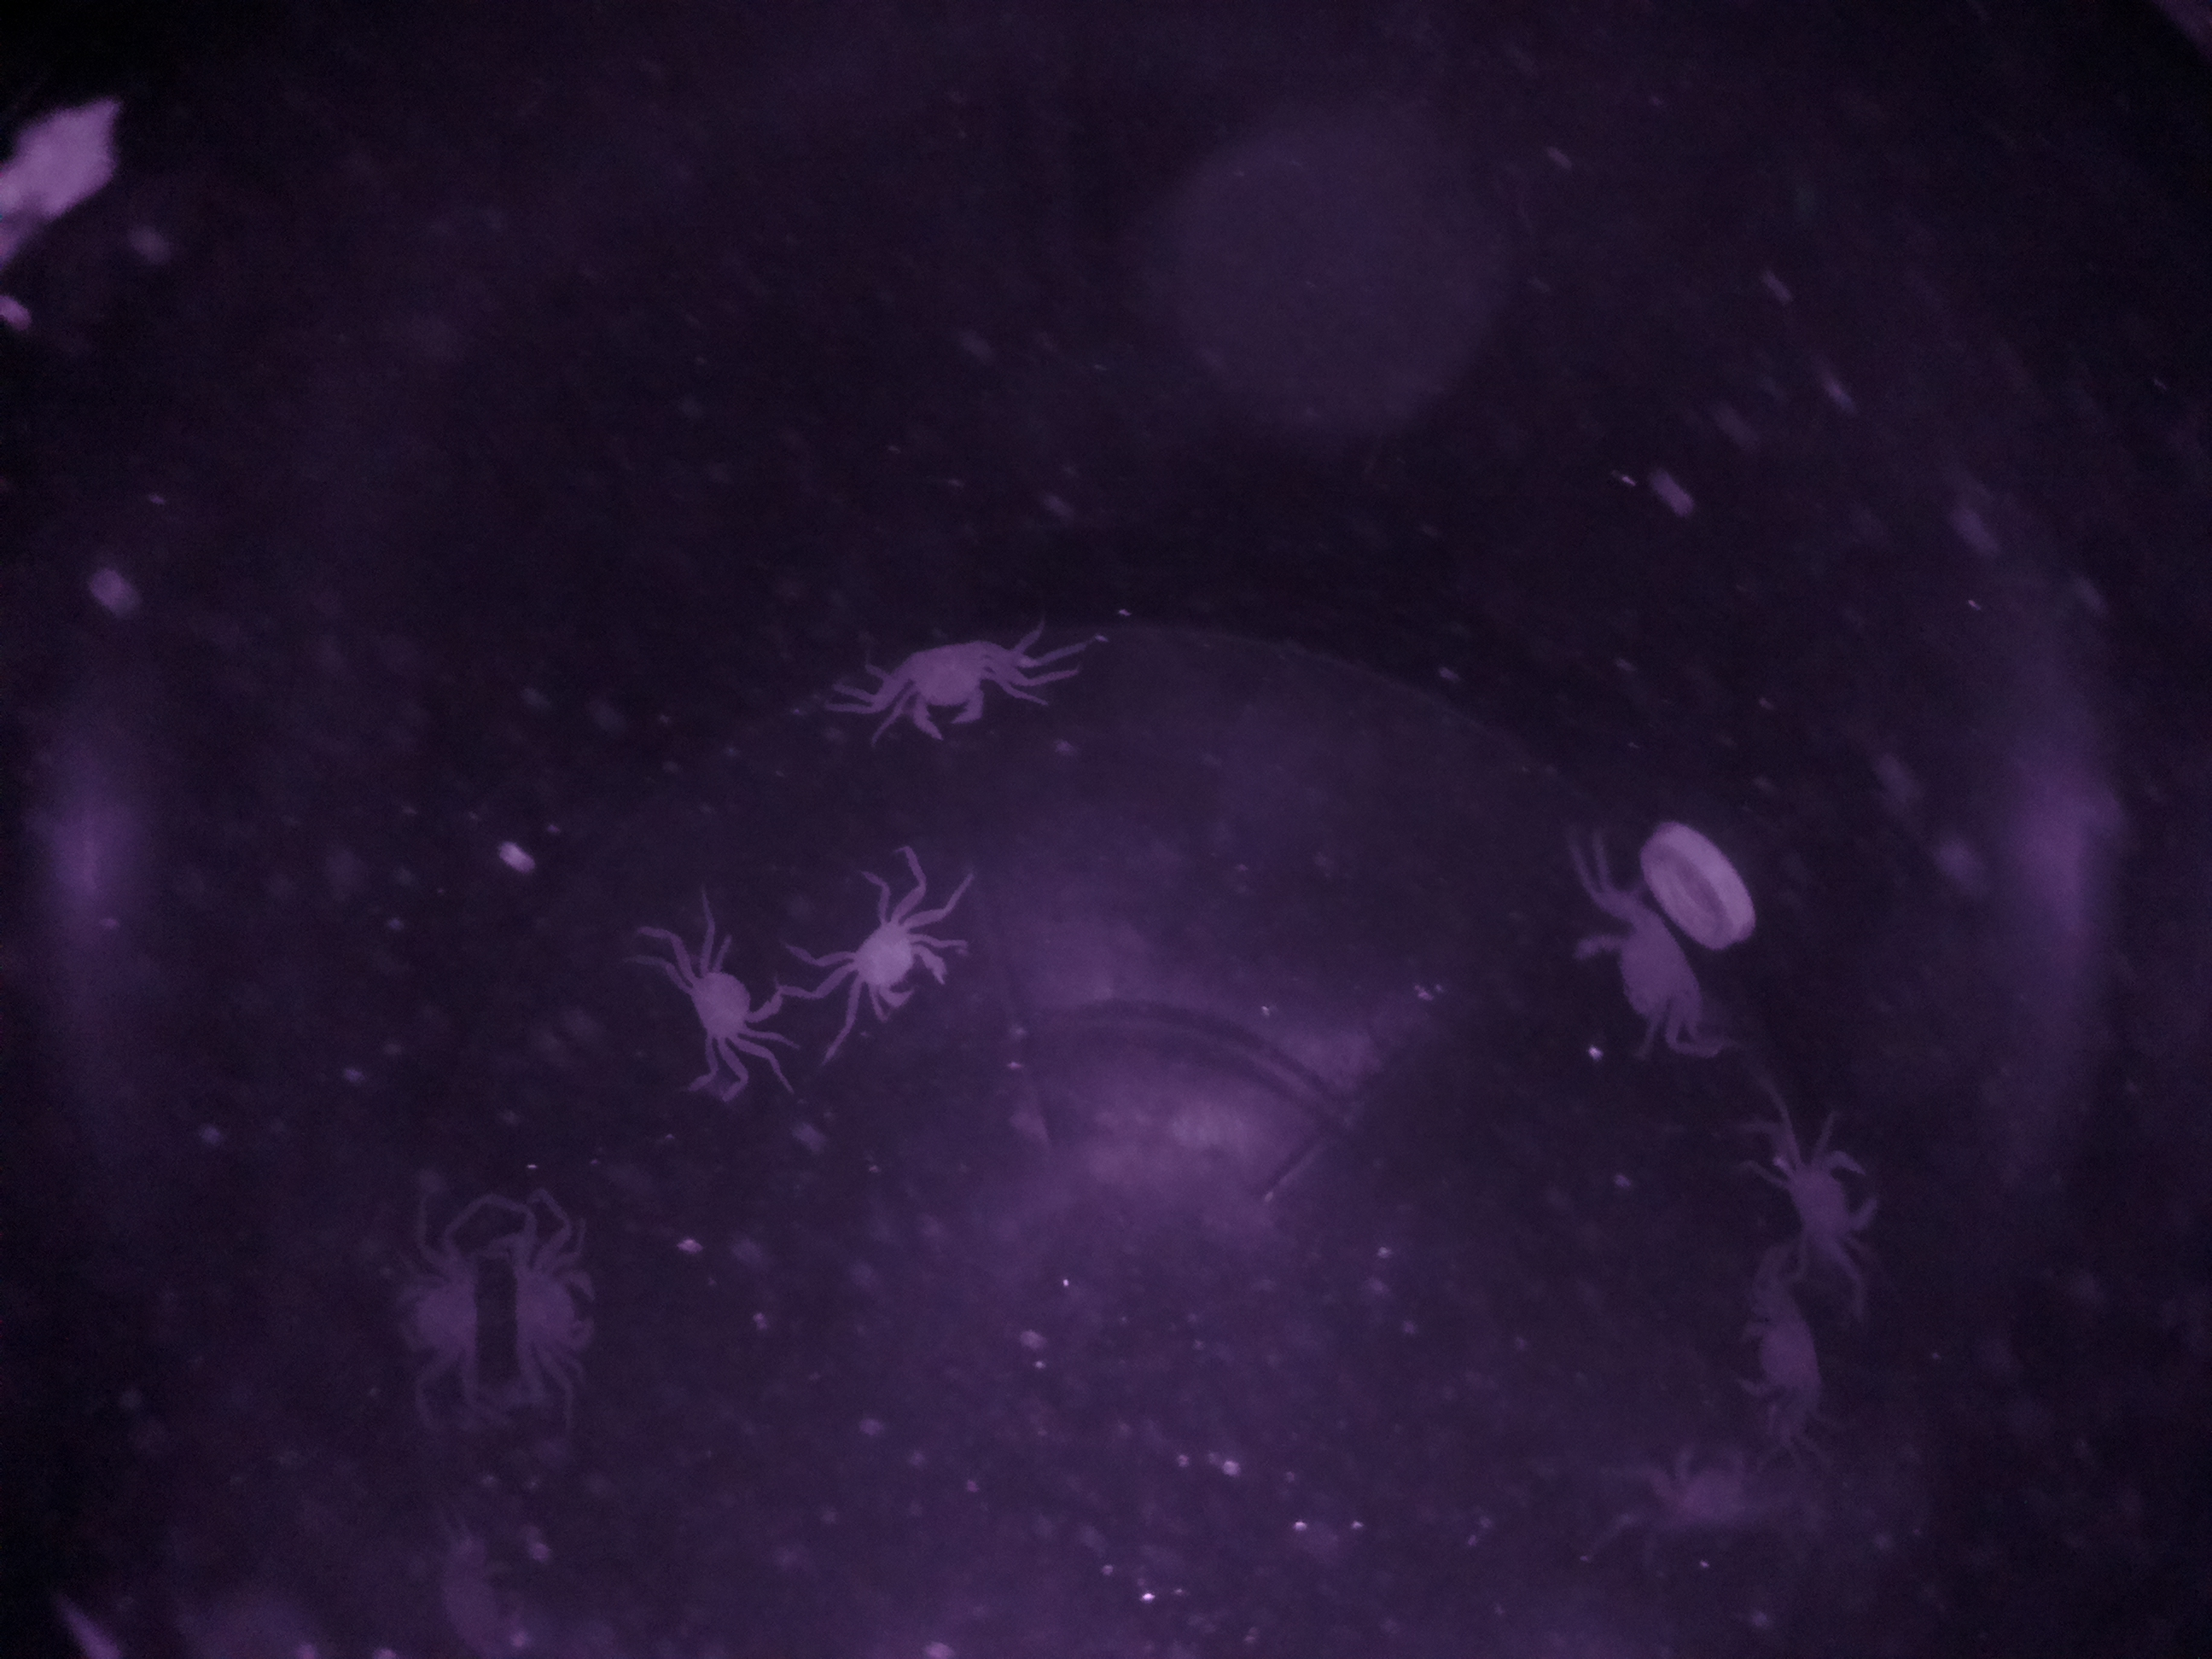Crab: (1555, 875, 1731, 1079), (808, 889, 977, 1047), (1745, 1119, 1904, 1276), (491, 1230, 627, 1412), (878, 612, 1033, 758), (665, 917, 803, 1066)
